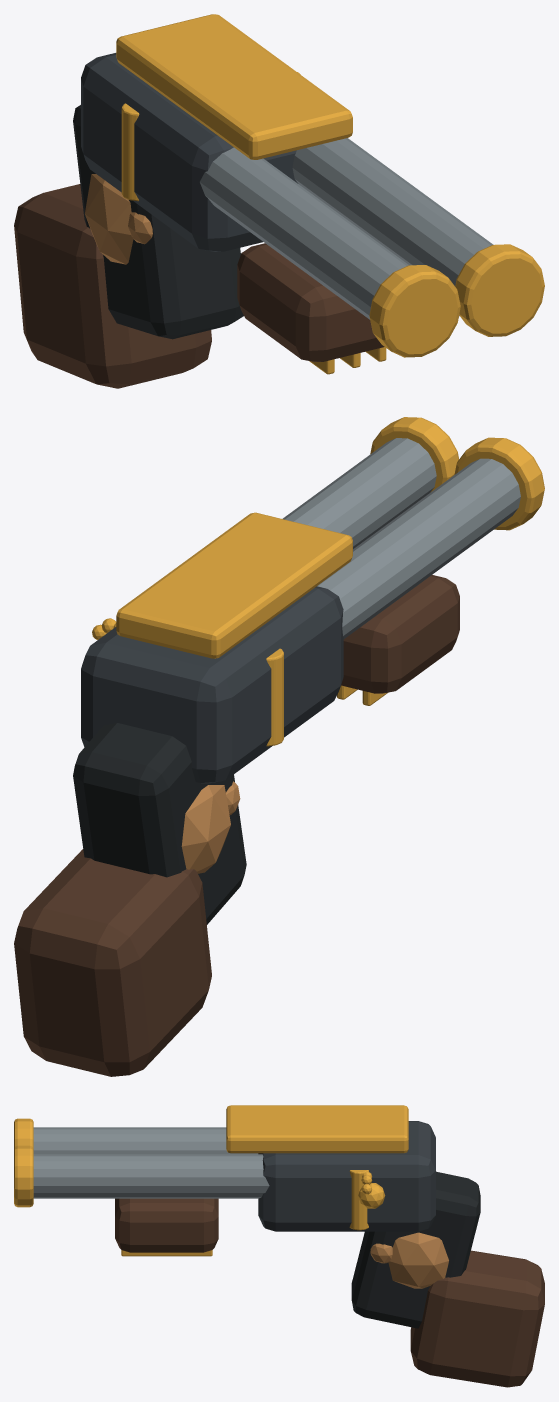
File: barkshot_viewmodel.glb
The picture shows the model from 3 angles, top to bottom: view 1: azimuth 30°, elevation 25°; view 2: azimuth 150°, elevation 25°; view 3: azimuth 270°, elevation 25°; orthographic projection. The views are drawn at different scales.
Visible parts, largest first — view 1: CobieLeatherSleeve.001, BarkshotTopRail, BarkshotReceiver, BarkshotBarrel0, BarkshotGrip, BarkshotBarrel1, BarkshotPump, BarkshotMuzzle0, BarkshotMuzzle1, CobieGripPaw.001, SideShell0, CobieGripToe0.001; view 2: CobieLeatherSleeve.001, BarkshotReceiver, BarkshotTopRail, BarkshotGrip, BarkshotBarrel0, BarkshotPump, BarkshotBarrel1, CobieGripPaw.001, BarkshotMuzzle0, BarkshotMuzzle1, SideShell0; view 3: CobieLeatherSleeve.001, BarkshotReceiver, BarkshotBarrel1, BarkshotTopRail, BarkshotGrip, BarkshotPump, BarkshotBarrel0, CobieGripPaw.001, BarkshotMuzzle1, SideShell1, BarkshotMuzzle0, PumpRib.004 (+2 smaller).
Boxes of the visible parts, box(x1,y1,x2,y2) form: CobieLeatherSleeve.001: box(14, 184, 211, 388); BarkshotTopRail: box(116, 14, 352, 159); BarkshotReceiver: box(81, 53, 298, 251); BarkshotBarrel0: box(200, 147, 408, 319); BarkshotGrip: box(73, 105, 243, 339); BarkshotBarrel1: box(292, 138, 493, 286); BarkshotPump: box(237, 243, 459, 361); BarkshotMuzzle0: box(369, 265, 460, 357); BarkshotMuzzle1: box(455, 244, 544, 336); CobieGripPaw.001: box(85, 174, 133, 264); SideShell0: box(121, 103, 139, 200); CobieGripToe0.001: box(128, 212, 152, 244); CobieLeatherSleeve.001: box(14, 849, 211, 1076); BarkshotReceiver: box(81, 586, 343, 783); BarkshotTopRail: box(116, 512, 352, 658); BarkshotGrip: box(73, 723, 246, 924); BarkshotBarrel0: box(317, 458, 520, 638); BarkshotPump: box(341, 575, 459, 693); BarkshotBarrel1: box(282, 438, 436, 548); CobieGripPaw.001: box(181, 785, 230, 873); BarkshotMuzzle0: box(454, 437, 544, 530); BarkshotMuzzle1: box(370, 417, 458, 492); SideShell0: box(266, 648, 283, 746); CobieLeatherSleeve.001: box(410, 1250, 544, 1387); BarkshotReceiver: box(258, 1121, 435, 1231); BarkshotBarrel1: box(33, 1154, 269, 1198); BarkshotTopRail: box(226, 1105, 408, 1153); BarkshotGrip: box(351, 1171, 480, 1328); BarkshotPump: box(115, 1198, 218, 1252); BarkshotBarrel0: box(33, 1127, 258, 1154); CobieGripPaw.001: box(388, 1232, 448, 1288); BarkshotMuzzle1: box(14, 1145, 33, 1207); SideShell1: box(349, 1170, 368, 1230); BarkshotMuzzle0: box(14, 1118, 33, 1148); PumpRib.004: box(121, 1250, 212, 1256).
Bounding box in the file's own units: 0.5759 × 1.14 × 2.15.
